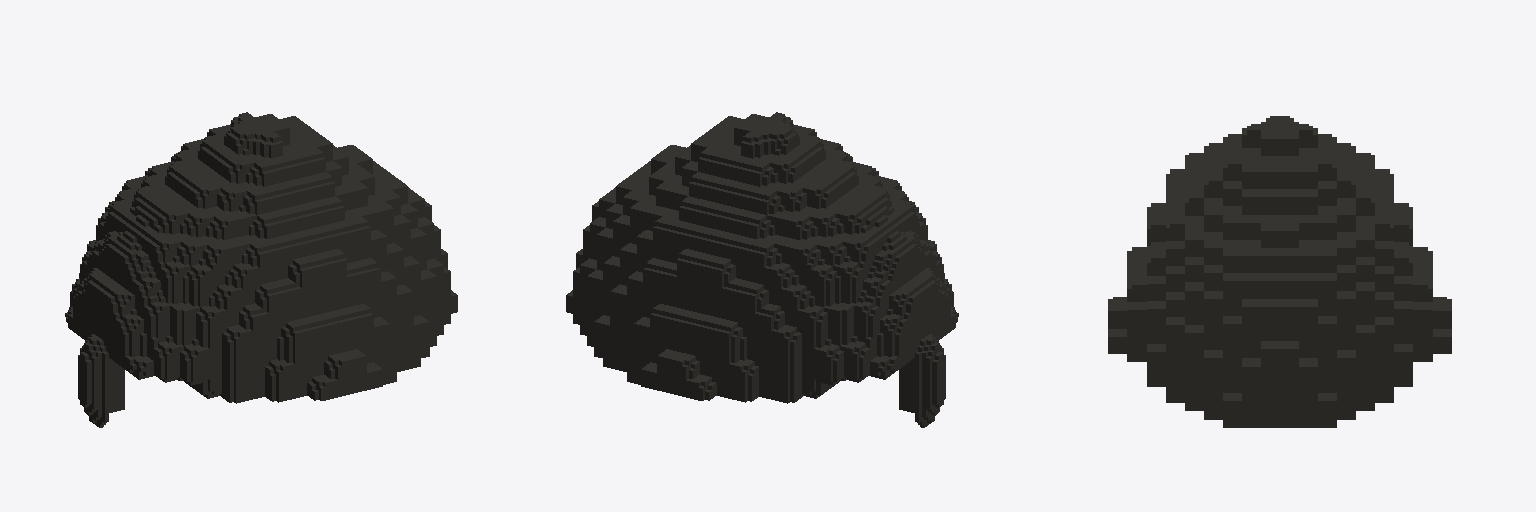
3 views of the same model, side by side, from view 1: azimuth 30°, elevation 25°; view 2: azimuth 150°, elevation 25°; view 3: azimuth 270°, elevation 25° (orthographic).
Visible parts, largest first — view 1: Helm_Nasal_default; view 2: Helm_Nasal_default; view 3: Helm_Nasal_default.
Part boxes in pixels (left/top/right/bottom): Helm_Nasal_default: left=65, top=112, right=457, bottom=427; Helm_Nasal_default: left=566, top=112, right=958, bottom=427; Helm_Nasal_default: left=1108, top=116, right=1451, bottom=427.
Size of the model in its own units: 0.84 by 0.6 by 0.72.
Materials: 1 (1 with a texture image).